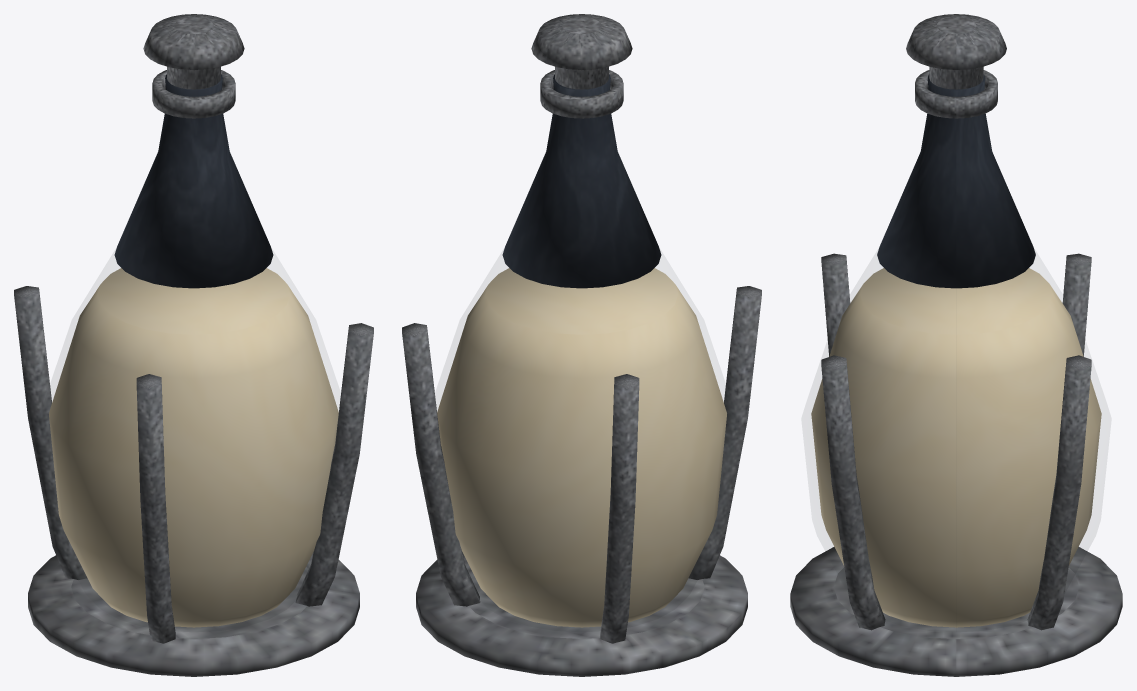
The model's file is item_bottle27.glb.
3 renders of one model, left to right at view 1: azimuth 30°, elevation 25°; view 2: azimuth 150°, elevation 25°; view 3: azimuth 270°, elevation 25°, orthographic.
Parts seen in each view (by area): view 1: bottle27_solid; view 2: bottle27_solid; view 3: bottle27_solid.
Part boxes in pixels (x1,y1,x2,y2): bottle27_solid: [14, 14, 373, 676]; bottle27_solid: [402, 14, 761, 676]; bottle27_solid: [790, 14, 1122, 676].
Bounding box in the file's own units: 1 × 1.96 × 1.
2 materials, 1 textured.
